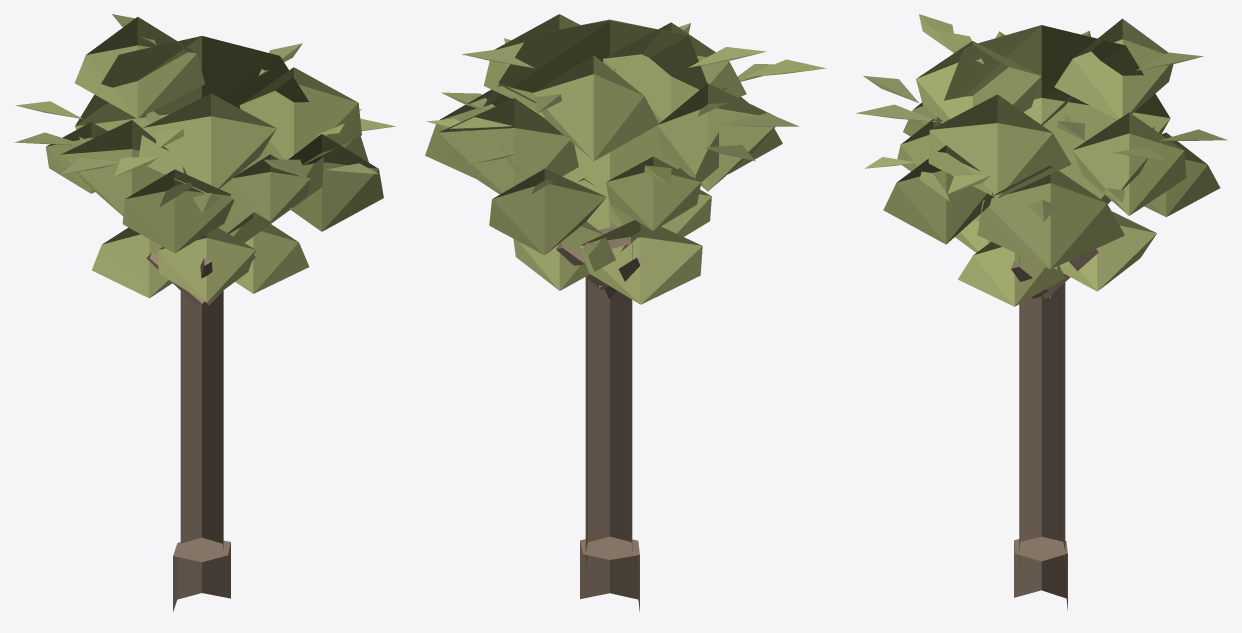
The model's file is shu.mumian@subadult__autumn.glb.
3 views of the same model, side by side, from view 1: azimuth 30°, elevation 25°; view 2: azimuth 150°, elevation 25°; view 3: azimuth 270°, elevation 25° (orthographic). The views are drawn at different scales.
Visible parts, largest first — view 1: shu.mumian@subadult__autumn; view 2: shu.mumian@subadult__autumn; view 3: shu.mumian@subadult__autumn.
Boxes of the visible parts, box(x1,y1,x2,y2) form: shu.mumian@subadult__autumn: box(14, 14, 396, 611); shu.mumian@subadult__autumn: box(425, 14, 825, 611); shu.mumian@subadult__autumn: box(856, 14, 1227, 610).
Bounding box in the file's own units: 10.06 × 16.69 × 9.81.
